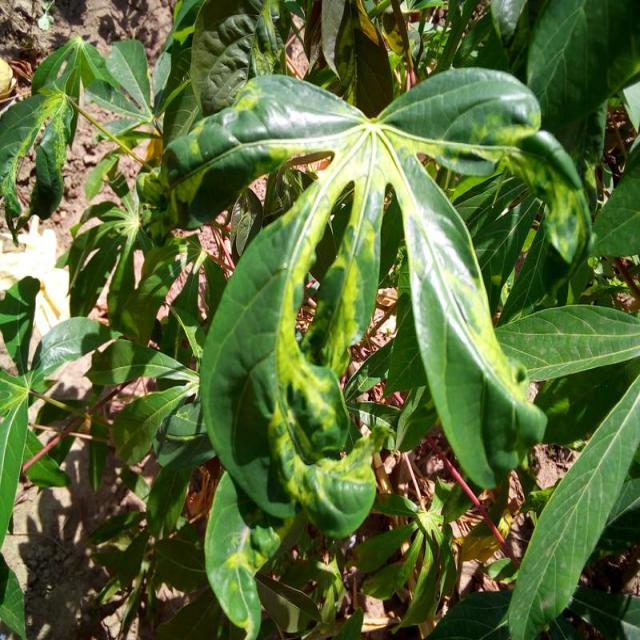cassava leaf: (162, 63, 574, 536)
